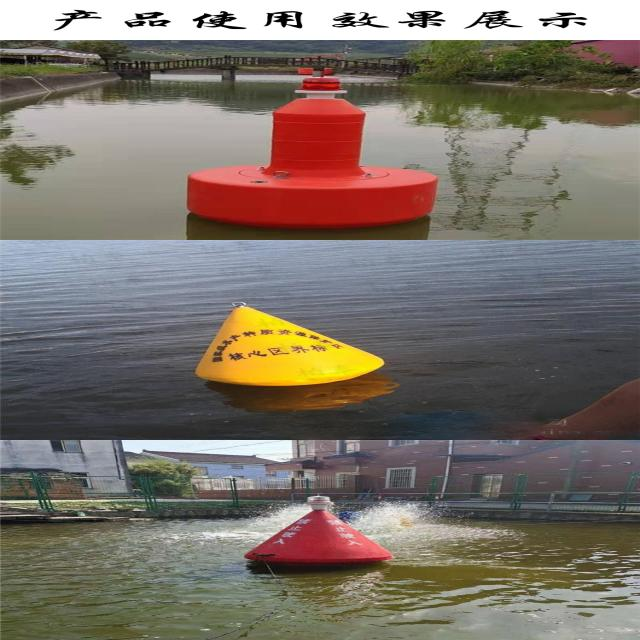buoy: (157, 58, 459, 225), (174, 304, 409, 388), (242, 494, 402, 569)
